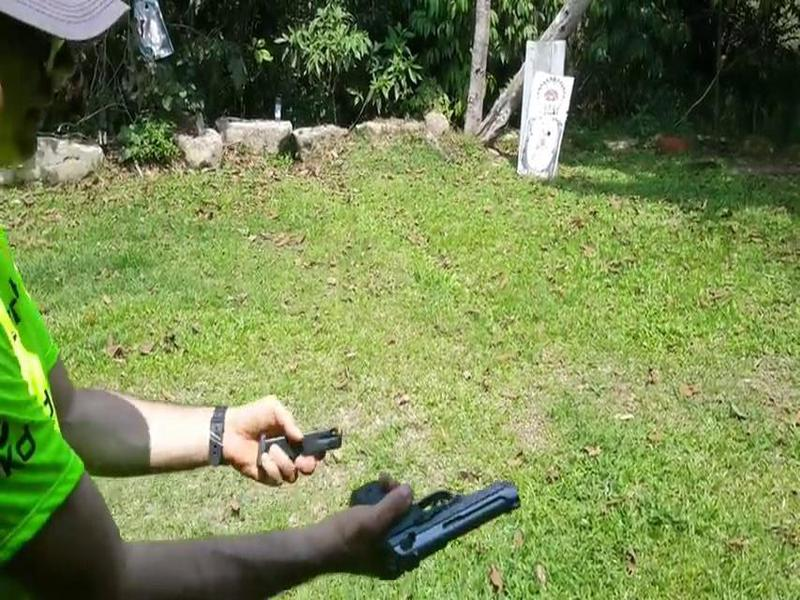Pistola: (345, 471, 528, 582)
